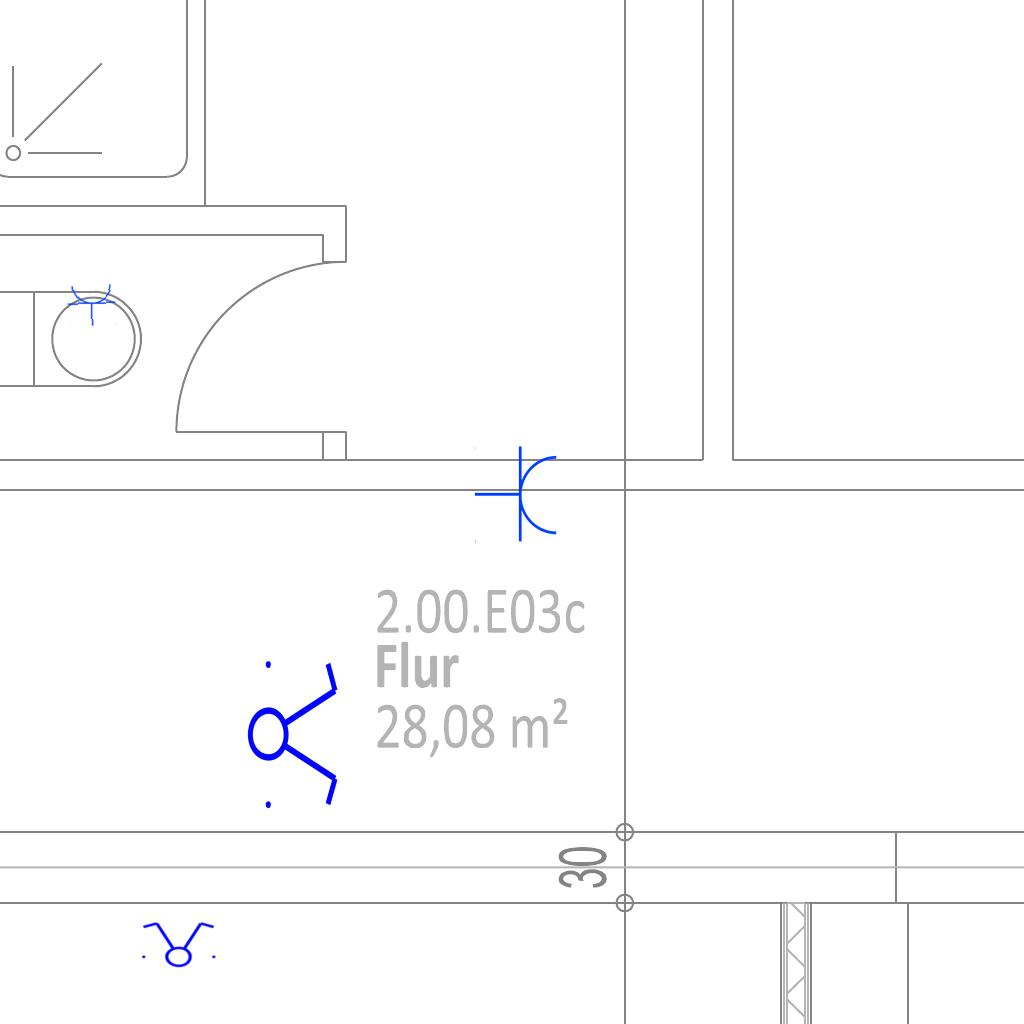Schukosteckdose_einfach: (474, 445, 561, 545), (66, 282, 118, 327)
Serienschalter: (246, 649, 342, 817), (136, 920, 220, 968)
